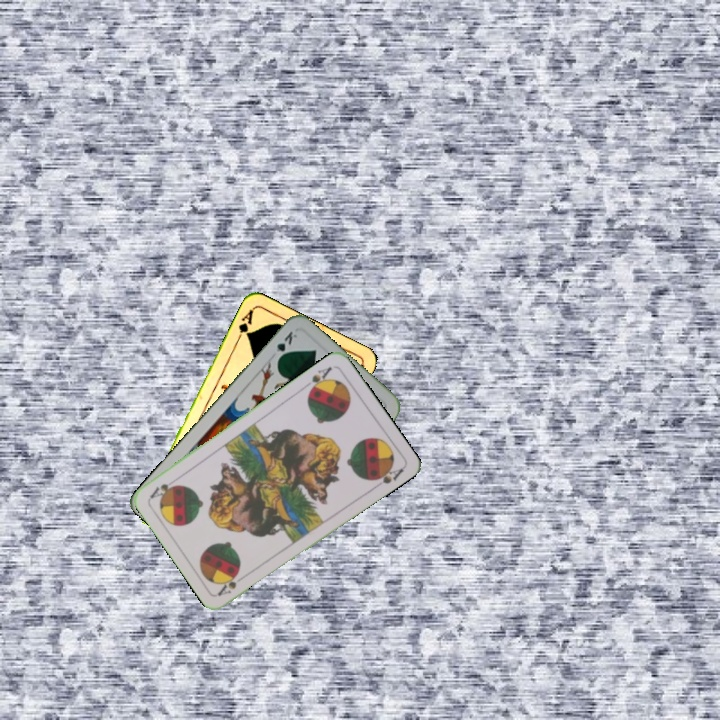GA: (233, 305, 256, 343)
GK: (267, 327, 301, 364)
SA: (300, 362, 335, 396), (214, 569, 250, 598)
